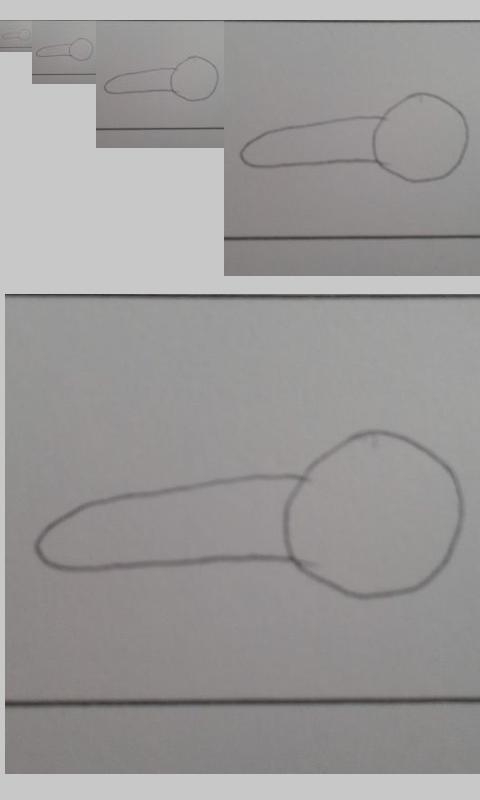switch: (35, 427, 467, 600), (239, 91, 470, 183), (103, 55, 221, 102), (35, 37, 94, 63), (2, 29, 32, 42)
